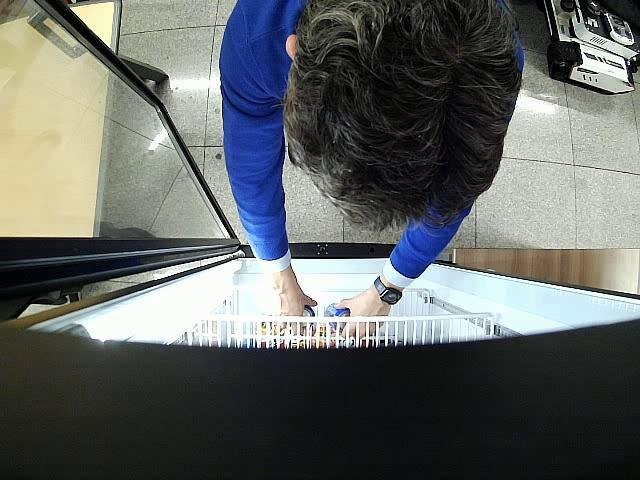00_hand: (268, 277, 317, 334), (335, 292, 391, 338)
13_pocariSweat: (324, 303, 350, 331), (303, 305, 315, 330)
